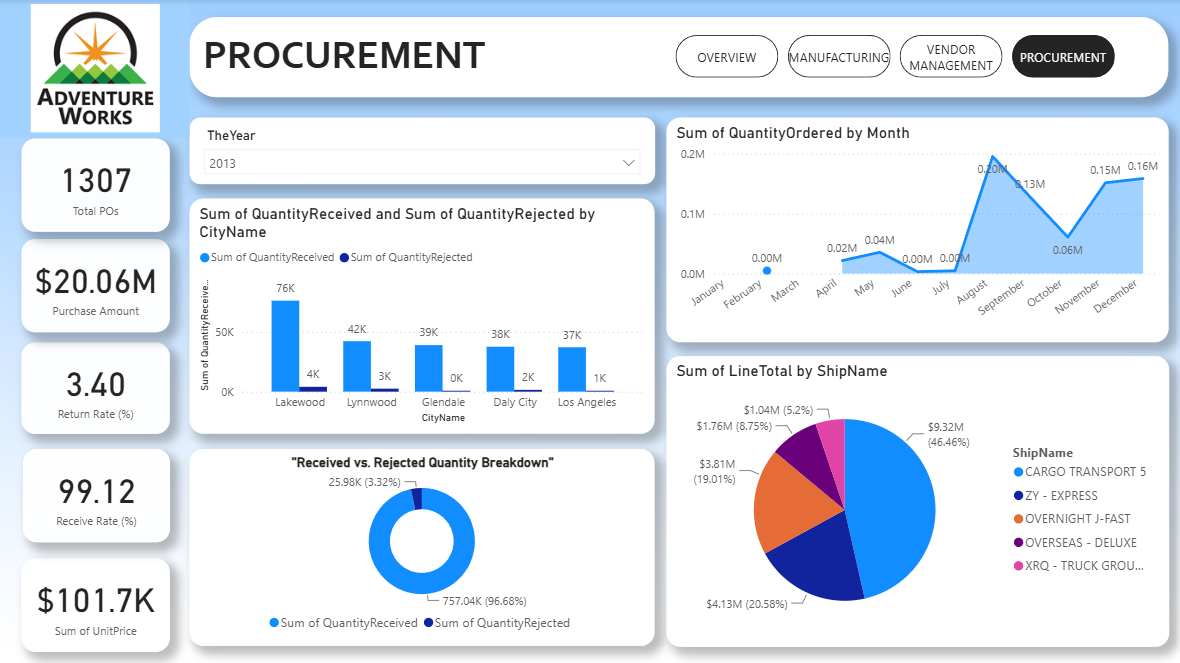

The dashboard page shown, as its layout file describes it:
{"tool":"powerbi","page":{"name":"PROCUREMENT","canvas":[1280,720],"ordinal":3},"visuals":[{"type":"card","fields":{"Values":["DAX.Return Rate (%)"]},"box":[24.3,370.8,160.3,98.8],"z":0},{"type":"card","fields":{"Values":["DAX.Purchase Amount"]},"box":[24.3,259.1,160.3,100.4],"z":1000},{"type":"card","fields":{"Values":["Sum(FactPurchaseOrder.UnitPrice)"]},"box":[24.3,604,160.3,100.4],"z":2000},{"type":"card","fields":{"Values":["DAX.Receive Rate (%)"]},"box":[25.9,485.8,158.7,100.4],"z":3000},{"type":"textbox","box":[206,18.9,1056.4,86.9],"z":4000},{"type":"slicer","fields":{"Values":["Galaxy DimTime.TheYear"]},"box":[206,128.5,502.7,71.8],"z":5000},{"type":"card","fields":{"Values":["DAX.Total POs"]},"box":[24.3,150.6,160.3,100.4],"z":6000},{"type":"image","box":[1.9,0,204.1,149.3],"z":7000},{"type":"pageNavigator","box":[730,38.4,477.5,46.7],"z":8000},{"type":"clusteredColumnChart","fields":{"Y":["Sum(FactPurchaseOrder.QuantityReceived)","Sum(FactPurchaseOrder.QuantityRejected)"],"Category":["DimVendor.CityName"]},"box":[205.8,215.4,502.2,253.9],"z":9000},{"type":"areaChart","fields":{"Category":["DimTime.FullDate.Variation.Date Hierarchy.Month"],"Y":["Sum(FactPurchaseOrder.QuantityOrdered)"]},"box":[720.4,127.6,542,242.9],"z":10000},{"type":"donutChart","title":"\"Received vs. Rejected Quantity Breakdown\"","fields":{"Y":["Sum(FactPurchaseOrder.QuantityReceived)","Sum(FactPurchaseOrder.QuantityRejected)"]},"box":[205.8,485.8,502.2,212.7],"z":11000},{"type":"pieChart","fields":{"Category":["DimShipMethod.ShipName"],"Y":["Sum(FactPurchaseOrder.LineTotal)"]},"box":[720,385.5,542.4,313.7],"z":12000}]}

Visuals, with their boxes in screenshot pixels (x1, y1, x2, y2), scaled from the page's 1280x720 canvas onto the 1180x663 screenshot:
card - DAX.Return Rate (%): crop(22, 341, 170, 432)
card - DAX.Purchase Amount: crop(22, 239, 170, 331)
card - Sum(FactPurchaseOrder.UnitPrice): crop(22, 556, 170, 649)
card - DAX.Receive Rate (%): crop(24, 447, 170, 540)
textbox: crop(190, 17, 1164, 97)
slicer - Galaxy DimTime.TheYear: crop(190, 118, 653, 184)
card - DAX.Total POs: crop(22, 139, 170, 231)
image: crop(2, 0, 190, 137)
pageNavigator: crop(673, 35, 1113, 78)
clusteredColumnChart - Sum(FactPurchaseOrder.QuantityReceived) x Sum(FactPurchaseOrder.QuantityRejected): crop(190, 198, 653, 432)
areaChart - DimTime.FullDate.Variation.Date Hierarchy.Month x Sum(FactPurchaseOrder.QuantityOrdered): crop(664, 117, 1164, 341)
""Received vs. Rejected Quantity Breakdown"" donutChart: crop(190, 447, 653, 643)
pieChart - DimShipMethod.ShipName x Sum(FactPurchaseOrder.LineTotal): crop(664, 355, 1164, 644)
